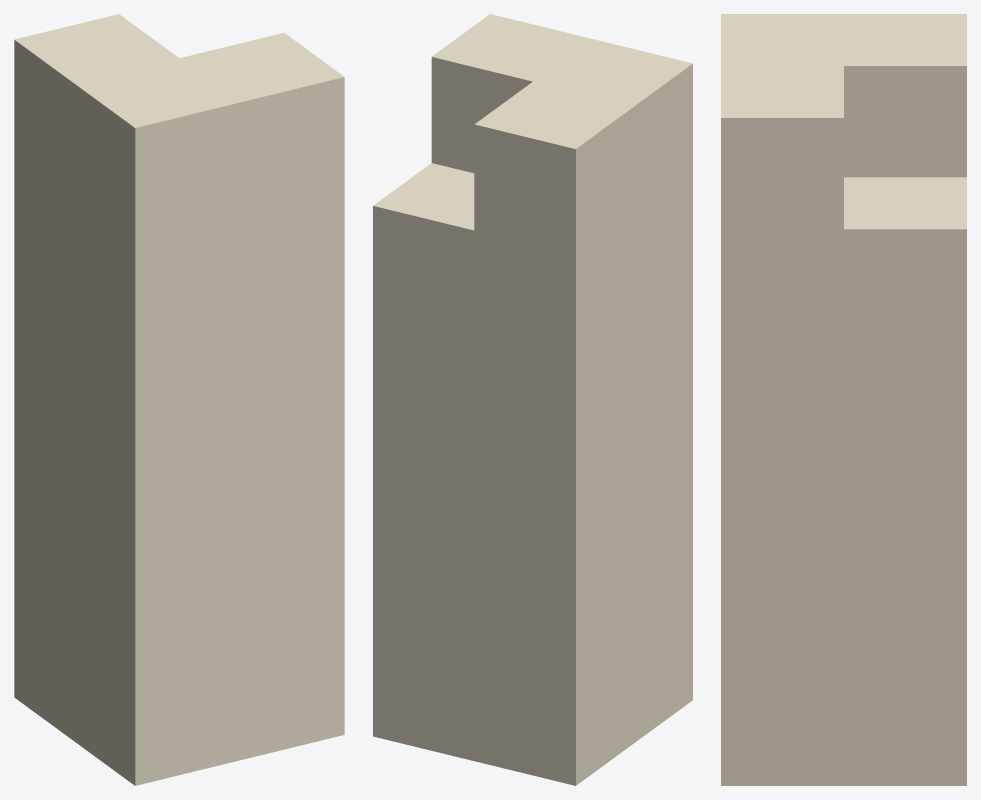
File: arctic_fox__leg_fr.glb
The picture shows the model from 3 angles, left to right: view 1: azimuth 30°, elevation 25°; view 2: azimuth 150°, elevation 25°; view 3: azimuth 270°, elevation 25°; orthographic projection. The views are drawn at different scales.
Parts seen in each view (by area): view 1: arctic_fox__leg_fr; view 2: arctic_fox__leg_fr; view 3: arctic_fox__leg_fr.
Boxes of the visible parts, left/top/right/bottom form: arctic_fox__leg_fr: left=14, top=14, right=344, bottom=785; arctic_fox__leg_fr: left=373, top=14, right=692, bottom=785; arctic_fox__leg_fr: left=721, top=14, right=966, bottom=785.
Bounding box in the file's own units: 0.2 × 0.6 × 0.2.
Materials: 1 (1 with a texture image).
